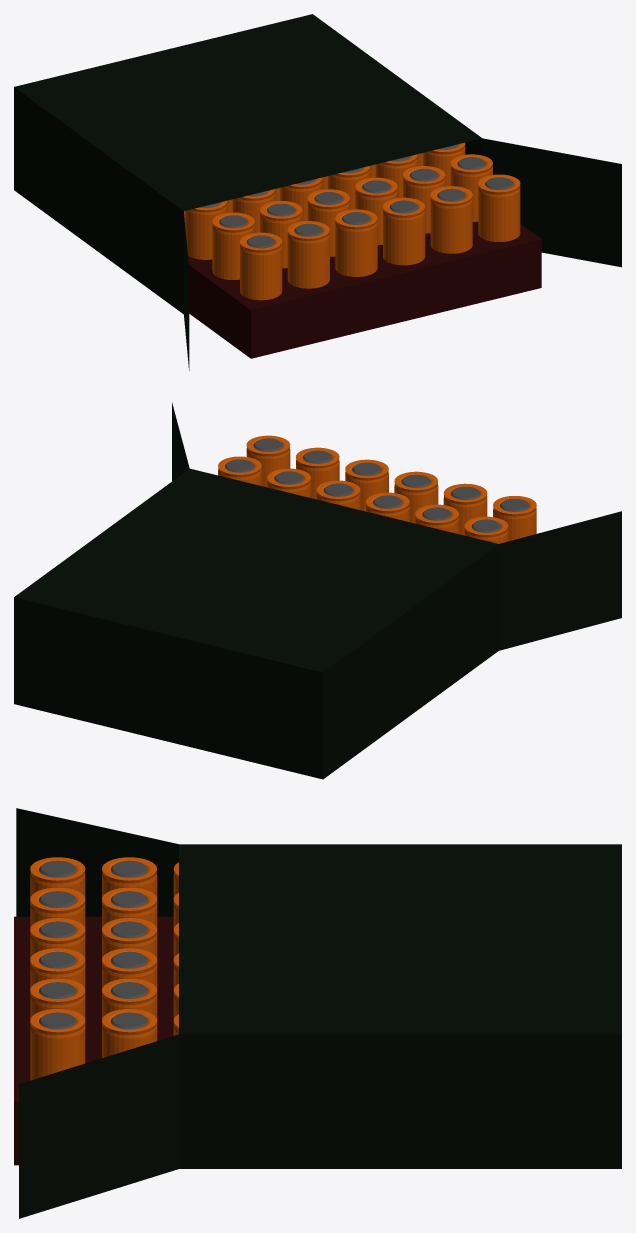
Rendered from ammoPickup.obj.
3 views of the same model, one above another, from view 1: azimuth 30°, elevation 25°; view 2: azimuth 150°, elevation 25°; view 3: azimuth 270°, elevation 25° (orthographic). The views are drawn at different scales.
Parts seen in each view (by area): view 1: Cube.001, Cylinder, Cube; view 2: Cube.001, Cylinder; view 3: Cube.001, Cylinder, Cube.
Boxes of the visible parts, x1,y1,x2,y2 form: Cube.001: (14,14,621,370); Cylinder: (184,142,520,300); Cube: (188,221,541,358); Cube.001: (14,402,621,779); Cylinder: (218,435,536,543); Cube.001: (16,808,621,1218); Cylinder: (30,857,178,1080); Cube: (14,916,173,1165).
Size of the model in its own units: 1.49 by 0.3396 by 1.39.
